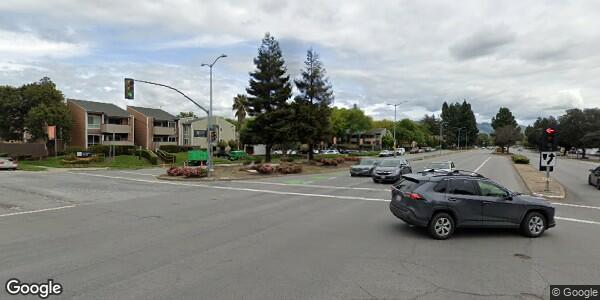Steel_Pole: (199, 52, 229, 104), (384, 98, 408, 138)
